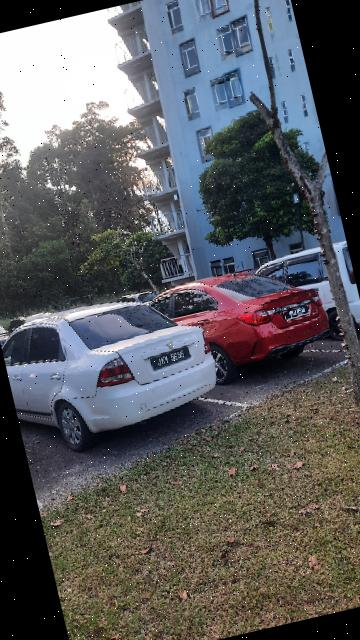License_Plate: (150, 344, 202, 374), (281, 301, 319, 325)
car: (1, 279, 234, 465), (150, 250, 342, 399)
